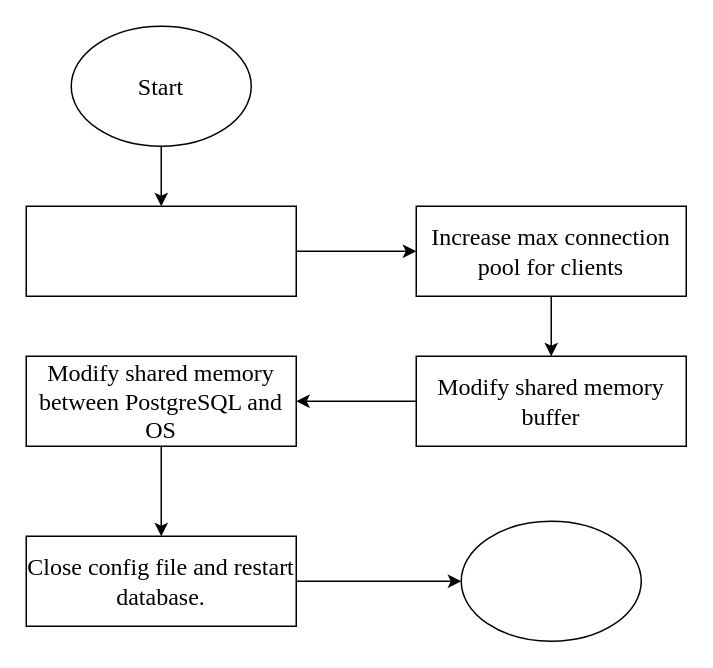
This 713x668 diagram has some shape labels left out. The centre of each missing label's shape, as x and y in pixels:
"End" belongs at pixel 550 580.
"Open PostgreSQL database config file" belongs at pixel 160 250.
